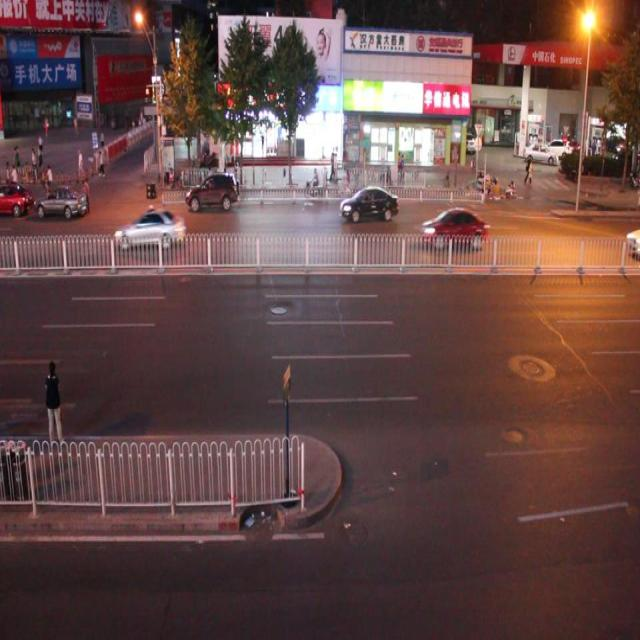car: (418, 204, 488, 252), (113, 207, 184, 250), (339, 183, 399, 222), (182, 172, 236, 214), (30, 187, 86, 224)
